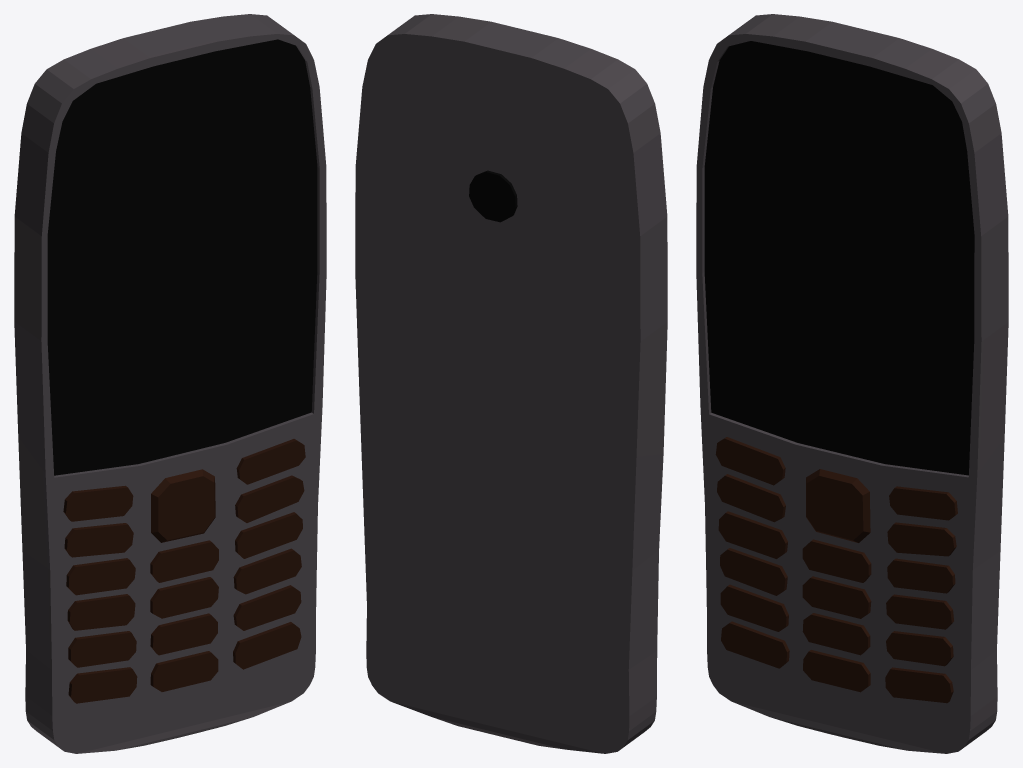
File: phone.fbx
3 renders of one model, left to right at view 1: azimuth 30°, elevation 25°; view 2: azimuth 150°, elevation 25°; view 3: azimuth 330°, elevation 25°, orthographic.
Visible parts, largest first — view 1: BezierCurve; view 2: BezierCurve; view 3: BezierCurve.
Part boxes in pixels (bbox=[...]): BezierCurve: bbox=[14, 14, 326, 753]; BezierCurve: bbox=[355, 14, 667, 753]; BezierCurve: bbox=[696, 14, 1008, 753].
Bounding box in the file's own units: 216 × 497 × 42.12.
